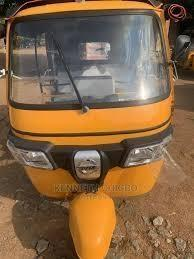keke: (3, 0, 179, 258)
